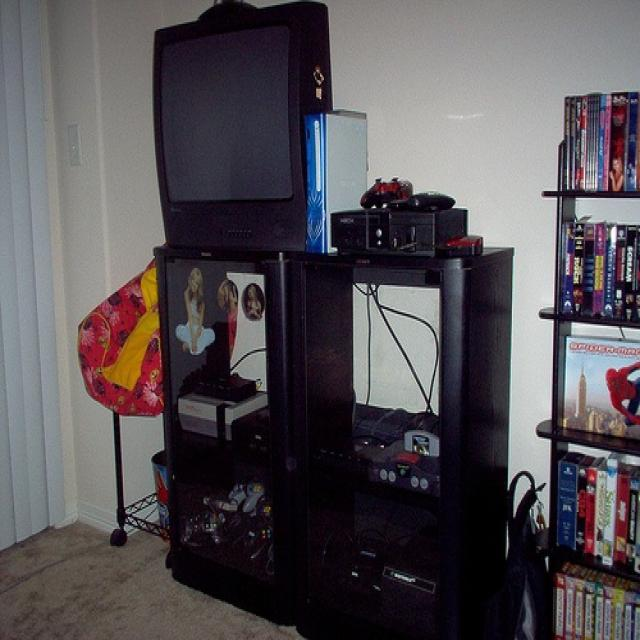tvmonitor: (150, 0, 334, 253)
